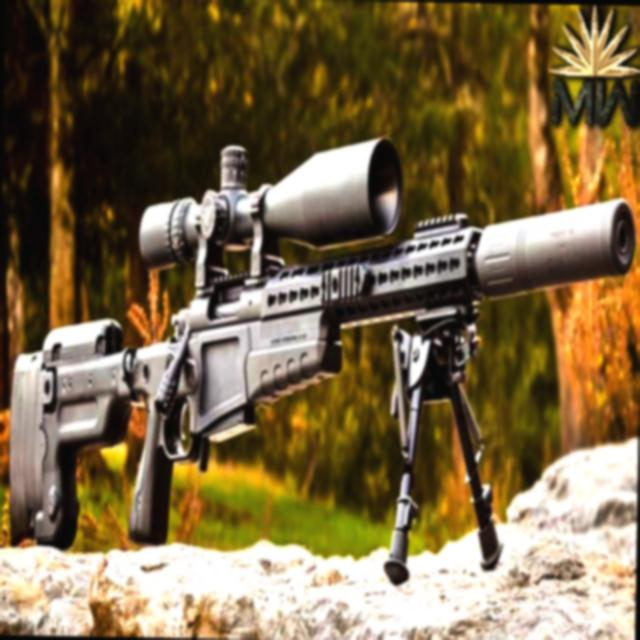rifle: (2, 129, 640, 576)
